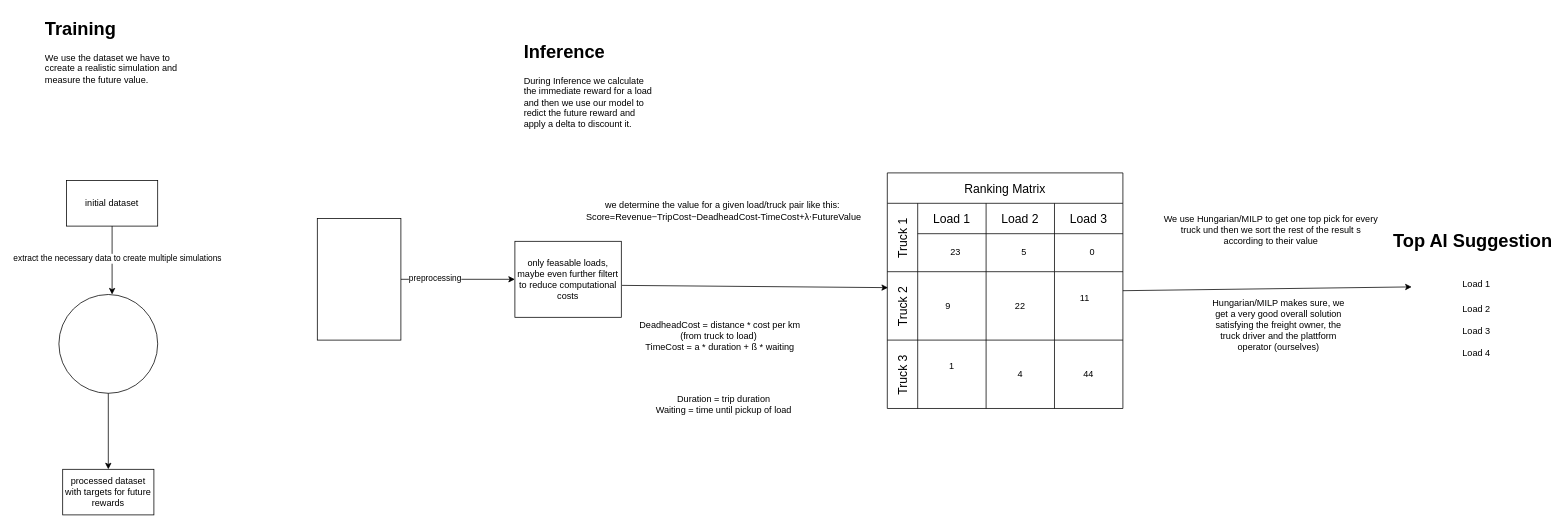
The diagram is 1565 pixels wide and 528 high, and some of its shapes have lost their labels. The centre of each missing label's shape, as x and y in pixels:
"Inputs: 1. Available trucks 2. Available loads" belongs at pixel 359 279.
"Run the simulation to build target labels for the future value" belongs at pixel 108 343.
